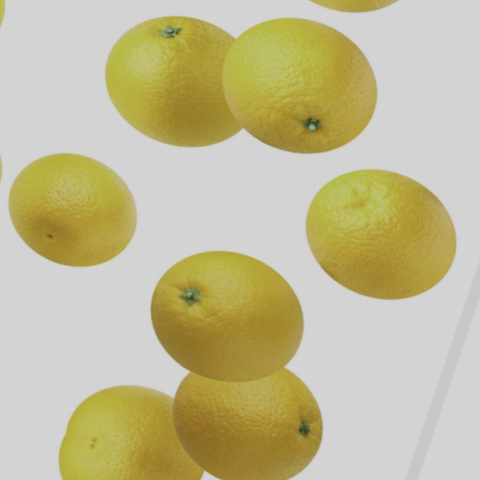orange: (274, 145, 480, 342), (193, 0, 407, 182), (121, 225, 326, 409), (77, 0, 285, 172), (141, 326, 365, 480), (0, 127, 156, 289), (55, 350, 231, 480)
